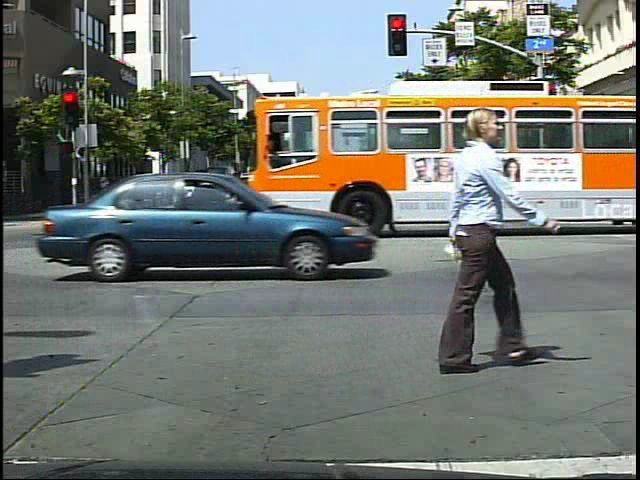person: (404, 90, 548, 392), (322, 164, 353, 228), (300, 166, 330, 230), (232, 166, 261, 232), (550, 160, 573, 211)
